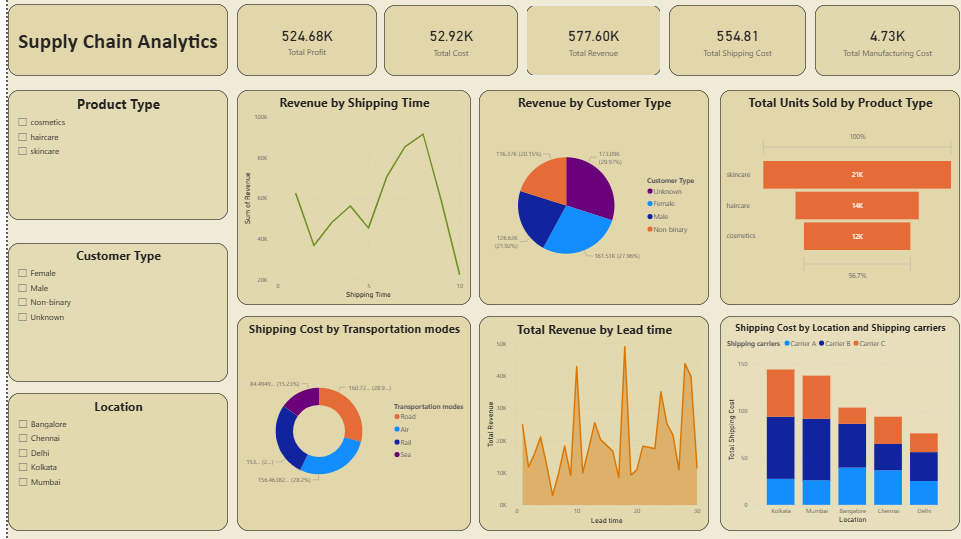

Layout of this report page (visuals, bound fields, positions):
{"tool":"powerbi","page":{"name":"Page 1","canvas":[1920,1080],"ordinal":0},"visuals":[{"type":"textbox","box":[0,10,440,144],"z":0},{"type":"card","fields":{"Values":["supply_chain_data.Total Profit"]},"box":[458,10,280,144],"z":1000},{"type":"card","fields":{"Values":["supply_chain_data.Total Cost"]},"box":[752,12,268,142],"z":2000},{"type":"card","fields":{"Values":["supply_chain_data.Total Revenue"]},"box":[1036,12,270,142],"z":3000},{"type":"card","fields":{"Values":["supply_chain_data.Total Shipping Cost"]},"box":[1322,12,274,142],"z":4000},{"type":"card","fields":{"Values":["supply_chain_data.Total Manufacturing Cost"]},"box":[1614,12,290,142],"z":5000},{"type":"lineChart","title":" Revenue by Shipping Time","fields":{"Y":["Sum(supply_chain_data.Revenue)"],"Category":["supply_chain_data.Shipping Time"]},"box":[458,182,468,430],"z":6000},{"type":"pieChart","title":"Revenue by Customer Type","fields":{"Category":["supply_chain_data.Customer Type"],"Y":["Sum(supply_chain_data.Revenue)"]},"box":[942,182,460,430],"z":7000},{"type":"funnel","fields":{"Category":["supply_chain_data.Product Type"],"Y":["supply_chain_data.Total Units Sold"]},"box":[1424,182,480,430],"z":8000},{"type":"donutChart","title":"Shipping Cost by Transportation modes","fields":{"Category":["supply_chain_data.Transportation modes"],"Y":["supply_chain_data.Total Shipping Cost"]},"box":[458,634,468,430],"z":9000},{"type":"areaChart","fields":{"Category":["supply_chain_data.Lead time"],"Y":["supply_chain_data.Total Revenue"]},"box":[942,634,460,430],"z":10000},{"type":"columnChart","title":"Shipping Cost by Location and Shipping carriers","fields":{"Category":["supply_chain_data.Location"],"Y":["supply_chain_data.Total Shipping Cost"],"Series":["supply_chain_data.Shipping carriers"]},"box":[1424,634,480,430],"z":11000},{"type":"slicer","title":"Product Type","fields":{"Values":["supply_chain_data.Product Type"]},"box":[0,182,440,260],"z":12000},{"type":"slicer","title":"Customer Type","fields":{"Values":["supply_chain_data.Customer Type"]},"box":[0,488,440,278],"z":13000},{"type":"slicer","title":"Location","fields":{"Values":["supply_chain_data.Location"]},"box":[0,788,440,276],"z":14000}]}

Visuals, with their boxes in screenshot pixels (x1, y1, x2, y2), scaled from the page's 1920x1080 canvas onto the 961x539 screenshot:
textbox: 0,5,220,77
card - supply_chain_data.Total Profit: 229,5,369,77
card - supply_chain_data.Total Cost: 376,6,511,77
card - supply_chain_data.Total Revenue: 519,6,654,77
card - supply_chain_data.Total Shipping Cost: 662,6,799,77
card - supply_chain_data.Total Manufacturing Cost: 808,6,953,77
" Revenue by Shipping Time" lineChart: 229,91,463,305
"Revenue by Customer Type" pieChart: 471,91,702,305
funnel - supply_chain_data.Product Type x supply_chain_data.Total Units Sold: 713,91,953,305
"Shipping Cost by Transportation modes" donutChart: 229,316,463,531
areaChart - supply_chain_data.Lead time x supply_chain_data.Total Revenue: 471,316,702,531
"Shipping Cost by Location and Shipping carriers" columnChart: 713,316,953,531
"Product Type" slicer: 0,91,220,221
"Customer Type" slicer: 0,244,220,382
"Location" slicer: 0,393,220,531
